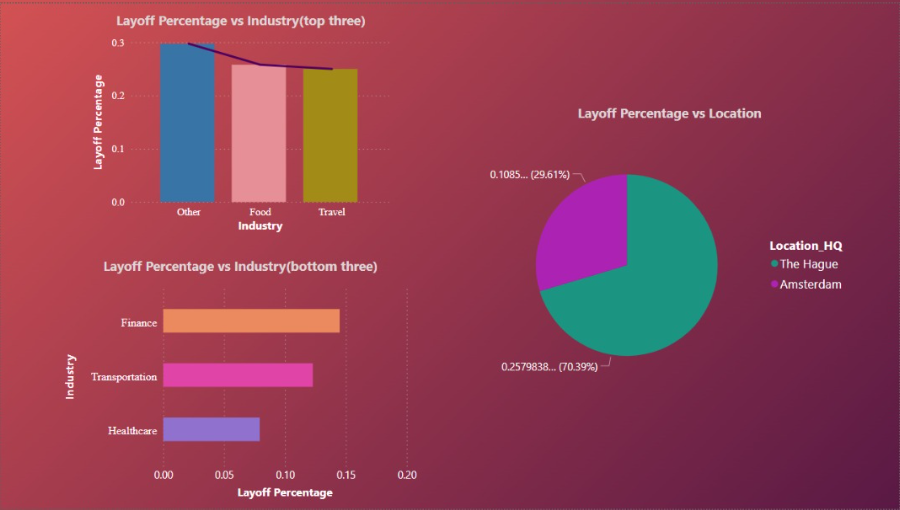

Layout of this report page (visuals, bound fields, positions):
{"tool":"powerbi","page":{"name":"Netherlands","canvas":[1280,720],"ordinal":3},"visuals":[{"type":"lineStackedColumnComboChart","title":"Layoff Percentage vs Industry(top three)","fields":{"Category":["Netherlands_industry_wise_layoff_percentage_top_three.Industry"],"Y":["Max(Netherlands_industry_wise_layoff_percentage_top_three.Layoff Percentage)"],"Y2":["Max(Netherlands_industry_wise_layoff_percentage_top_three.Layoff Percentage)"]},"box":[126.2,11.2,432.5,320],"z":0},{"type":"pieChart","title":"Layoff Percentage vs Location","fields":{"Y":["Max(Netherlands_location_wise_layoff_percentage.Layoff Percentage)"],"Category":["Netherlands_location_wise_layoff_percentage.Location_HQ"]},"box":[683.8,142.5,538.8,436.2],"z":1000},{"type":"barChart","title":"Layoff Percentage vs Industry(bottom three)","fields":{"Category":["Netherlands_industry_wise_layoff_percentage_bottom_three.Industry"],"Y":["Max(Netherlands_industry_wise_layoff_percentage_bottom_three.Layoff Percentage)"]},"box":[86.2,361.2,511.2,350],"z":2000}]}

Visuals, with their boxes in screenshot pixels (x1, y1, x2, y2), scaled from the page's 1280x720 canvas onto the 900x510 screenshot:
"Layoff Percentage vs Industry(top three)" lineStackedColumnComboChart: bbox=[89, 8, 393, 235]
"Layoff Percentage vs Location" pieChart: bbox=[481, 101, 860, 410]
"Layoff Percentage vs Industry(bottom three)" barChart: bbox=[61, 256, 420, 504]
